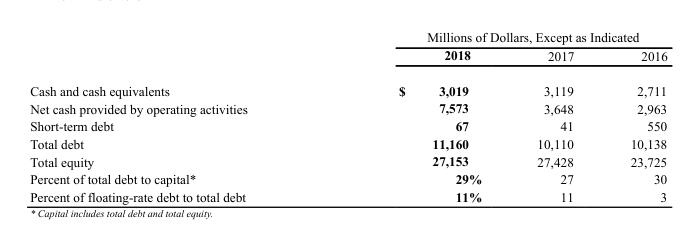table: (29, 29, 666, 203)
table column: (29, 29, 322, 203), (322, 29, 508, 203), (508, 29, 601, 203), (601, 29, 666, 203)
table column header: (29, 29, 666, 72)
table row: (29, 45, 666, 72), (29, 72, 666, 99), (29, 116, 666, 134), (29, 134, 666, 152), (29, 169, 666, 187), (29, 99, 666, 116), (29, 152, 666, 169), (29, 29, 666, 45), (29, 187, 666, 203)
table spanning cell: (322, 29, 666, 45)
